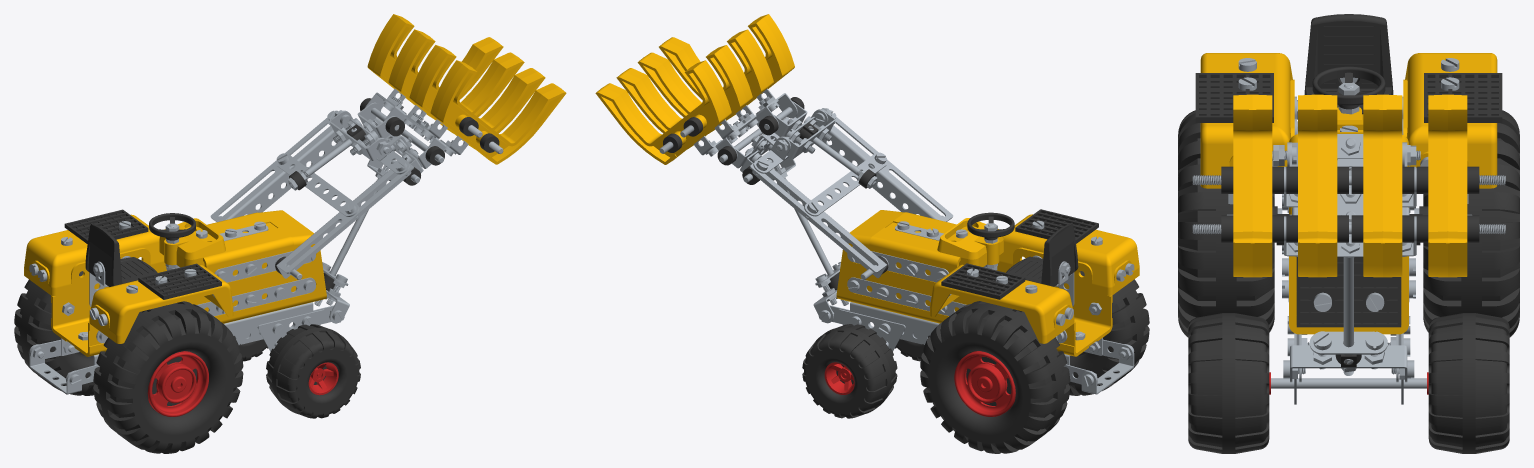
File: Traktor OO.glb
3 views of the same model, side by side, from view 1: azimuth 30°, elevation 25°; view 2: azimuth 150°, elevation 25°; view 3: azimuth 270°, elevation 25° (orthographic). The views are drawn at different scales.
Visible parts, largest first — view 1: Reifen 90 x 40 x 37 (×2), Ladeelement (×4), Traktor Schutzblech (×2), Reifen 54 x 10 x 31, Winkelstab 10 (×2), Traktor U 40 (×2), Gitterplatte (×2), Nabe Breitreifen groß DDR, Traktor U 20 (×2), Sitz (×2), Traktor Armaturenbrett, Traktor Kühlergrill (+9 smaller); view 2: Reifen 90 x 40 x 37 (×2), Ladeelement (×4), Traktor Schutzblech (×2), Reifen 54 x 10 x 31, Winkelstab 10 (×2), Traktor U 40 (×2), Gitterplatte (×2), Nabe Breitreifen groß DDR, Traktor U 20 (×2), Sitz (×2), Traktor Armaturenbrett, Traktor Kühlergrill (+9 smaller); view 3: Ladeelement (×4), Reifen 54 x 10 x 31 (×2), Reifen 90 x 40 x 37 (×2), Gitterplatte (×3), Traktor Schutzblech (×2), Sitz, Elastikstellring schmal DDR (×10), Traktor Kühlergrill, Bügel 1 x 3 x 1 groß, Welle 95, Lenkrad, Welle 2G 120_ (×2) (+4 smaller).
Part boxes in pixels (box(x1,y1,x2,y2)): Reifen 90 x 40 x 37 (×2): box(14, 271, 243, 453); Ladeelement (×4): box(367, 14, 566, 164); Traktor Schutzblech (×2): box(24, 214, 233, 343); Reifen 54 x 10 x 31: box(266, 324, 360, 418); Winkelstab 10 (×2): box(210, 110, 413, 278); Traktor U 40 (×2): box(203, 212, 293, 320); Gitterplatte (×2): box(64, 209, 221, 299); Nabe Breitreifen groß DDR: box(147, 351, 208, 416); Traktor U 20 (×2): box(51, 245, 235, 356); Sitz (×2): box(85, 224, 157, 286); Traktor Armaturenbrett: box(159, 218, 225, 267); Traktor Kühlergrill: box(258, 210, 326, 306); Reifen 90 x 40 x 37 (×2): box(920, 271, 1149, 453); Ladeelement (×4): box(595, 14, 794, 164); Traktor Schutzblech (×2): box(930, 214, 1139, 343); Reifen 54 x 10 x 31: box(802, 324, 897, 418); Winkelstab 10 (×2): box(749, 117, 953, 278); Traktor U 40 (×2): box(869, 212, 960, 320); Gitterplatte (×2): box(941, 209, 1098, 299); Nabe Breitreifen groß DDR: box(954, 351, 1015, 416); Traktor U 20 (×2): box(927, 245, 1112, 356); Sitz (×2): box(1006, 224, 1078, 286); Traktor Armaturenbrett: box(937, 218, 1003, 266); Traktor Kühlergrill: box(836, 210, 904, 306); Ladeelement (×4): box(1233, 94, 1467, 277); Reifen 54 x 10 x 31 (×2): box(1188, 313, 1509, 453); Reifen 90 x 40 x 37 (×2): box(1178, 110, 1519, 337); Gitterplatte (×3): box(1195, 73, 1502, 327); Traktor Schutzblech (×2): box(1200, 53, 1497, 188); Sitz: box(1304, 14, 1393, 91); Elastikstellring schmal DDR (×10): box(1221, 166, 1479, 242); Traktor Kühlergrill: box(1289, 207, 1408, 334); Bügel 1 x 3 x 1 groß: box(1290, 345, 1407, 382); Welle 95: box(1271, 378, 1426, 388); Lenkrad: box(1312, 66, 1385, 109); Welle 2G 120_ (×2): box(1192, 175, 1505, 234).
Size of the model in its own units: 0.3299 by 0.1994 by 0.131.
